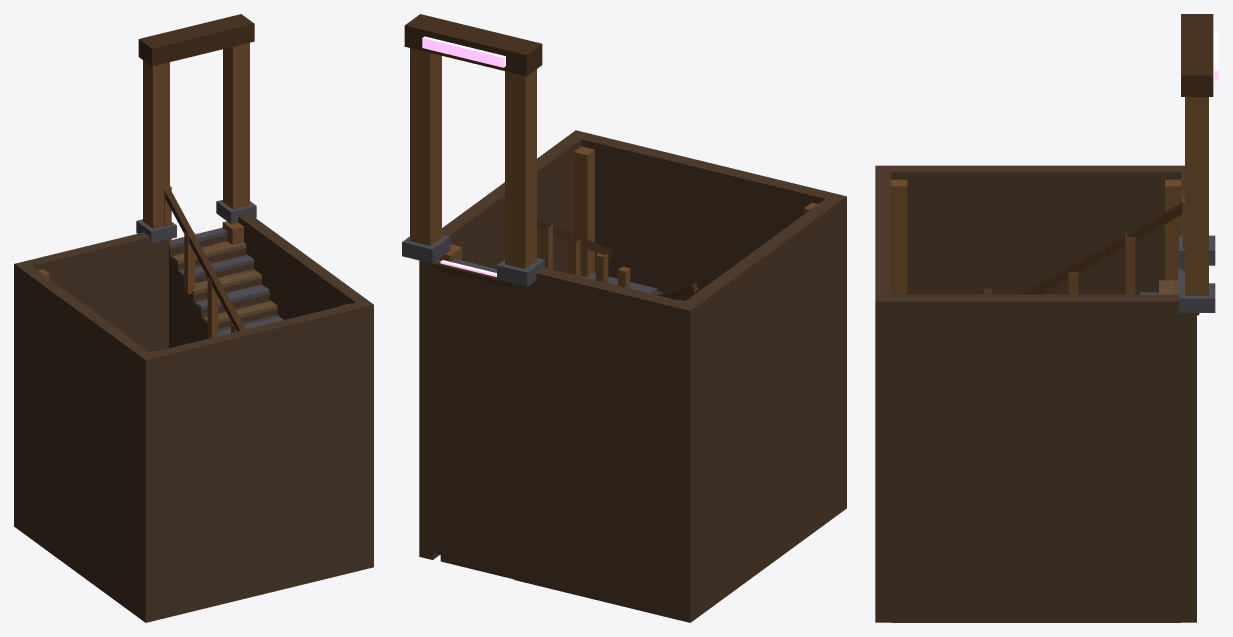
File: stairs_warrens_4x4.glb
3 renders of one model, left to right at view 1: azimuth 30°, elevation 25°; view 2: azimuth 150°, elevation 25°; view 3: azimuth 270°, elevation 25°, orthographic. The views are drawn at different scales.
Parts seen in each view (by area): view 1: stairs_warrens_4x4_LOD0; view 2: stairs_warrens_4x4_LOD0, Glow; view 3: stairs_warrens_4x4_LOD0.
Part boxes in pixels (left/top/right/bottom): stairs_warrens_4x4_LOD0: left=14, top=14, right=373, bottom=622; stairs_warrens_4x4_LOD0: left=402, top=14, right=846, bottom=622; Glow: left=422, top=36, right=505, bottom=276; stairs_warrens_4x4_LOD0: left=875, top=14, right=1215, bottom=622.
Size of what is drawn, in the model's own units: 4.12 by 7.65 by 4.27.
Materials: 2 (1 with a texture image).
